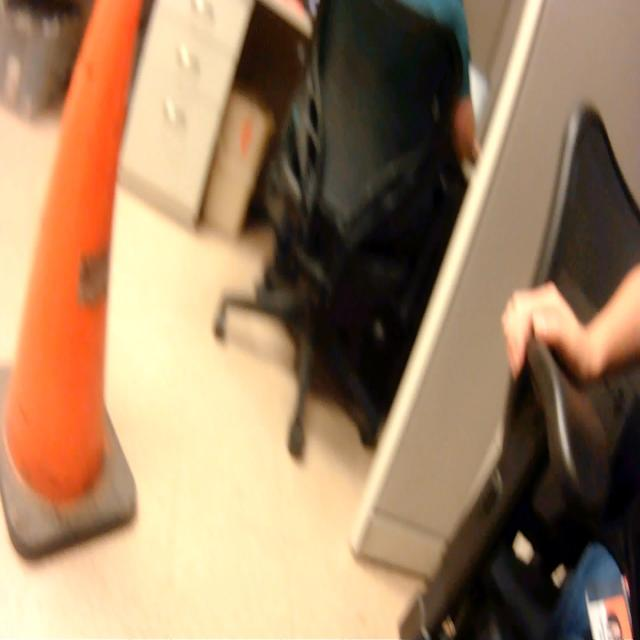traffic cone: (1, 1, 148, 574)
